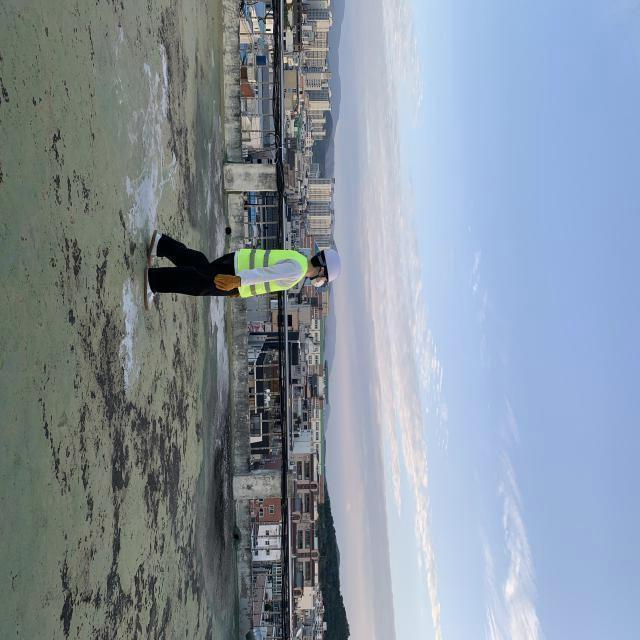10: (136, 221, 352, 319)
11: (234, 247, 309, 302)
2: (306, 247, 343, 288), (215, 274, 239, 293)
helmet_white: (142, 268, 160, 314), (146, 229, 165, 267)
